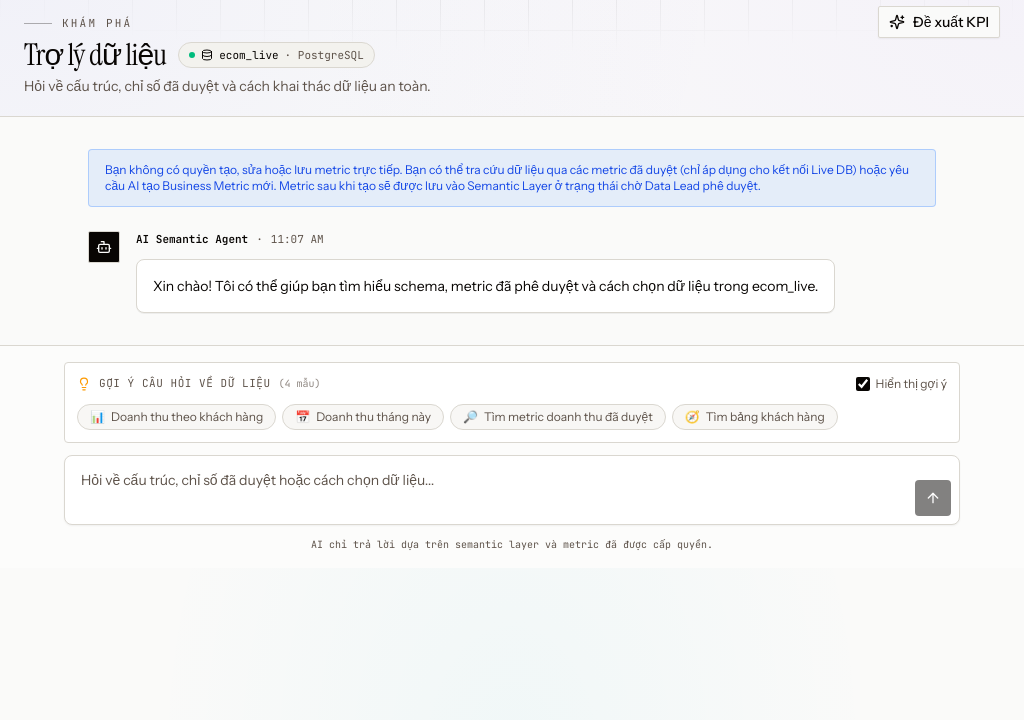
it: AIStudioView › renders generated suggestions after metric clarification selection
In the text box with placeholder "Hỏi về cấu trúc, chỉ số đã duyệt hoặc cách chọn dữ liệu...": (490, 490) [73,464,907,516], type "Doanh thu theo chi nhánh"
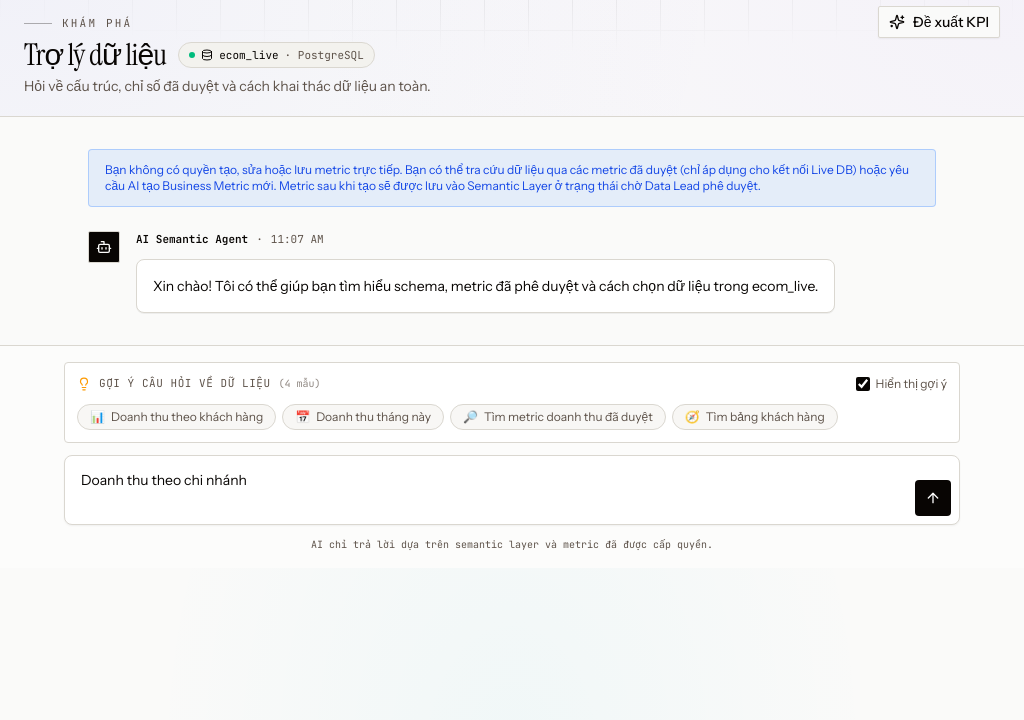
Click the button named "Gửi tin nhắn": (933, 498) [915,480,951,516]
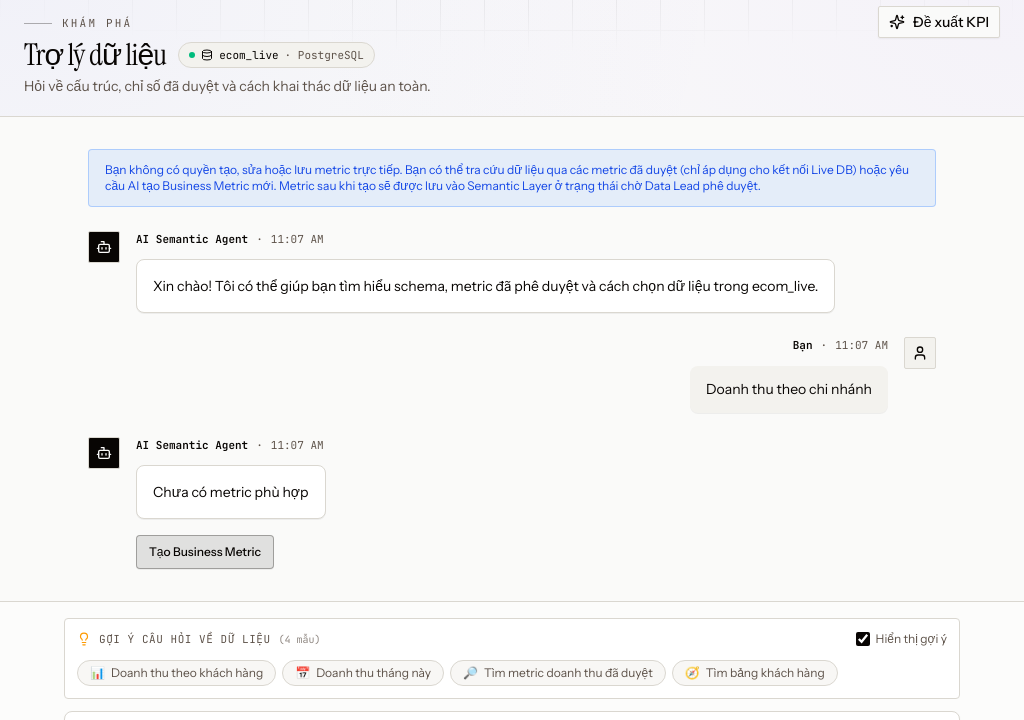
Now the button "Tạo Business Metric" is shown
Click the button "Tạo Business Metric": (205, 552) [136,535,274,569]
(page scrolled)
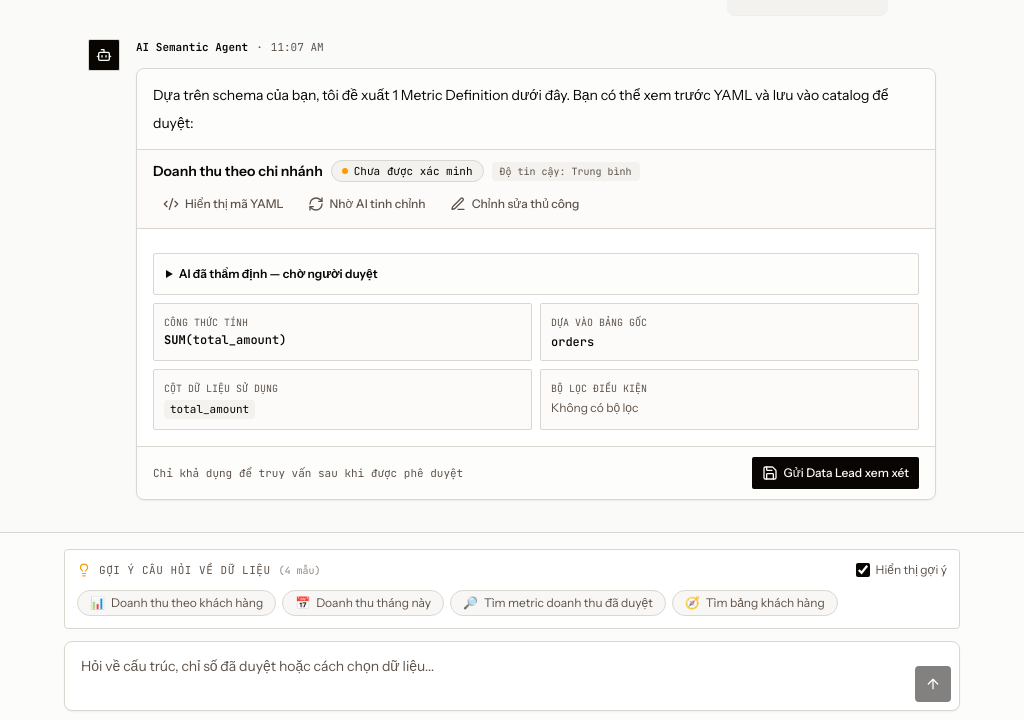
Now the heading "Doanh thu theo chi nhánh" is shown, box [153,161,323,181]
Now the button "Gửi Data Lead xem xét" is shown, box [752,457,919,489]
